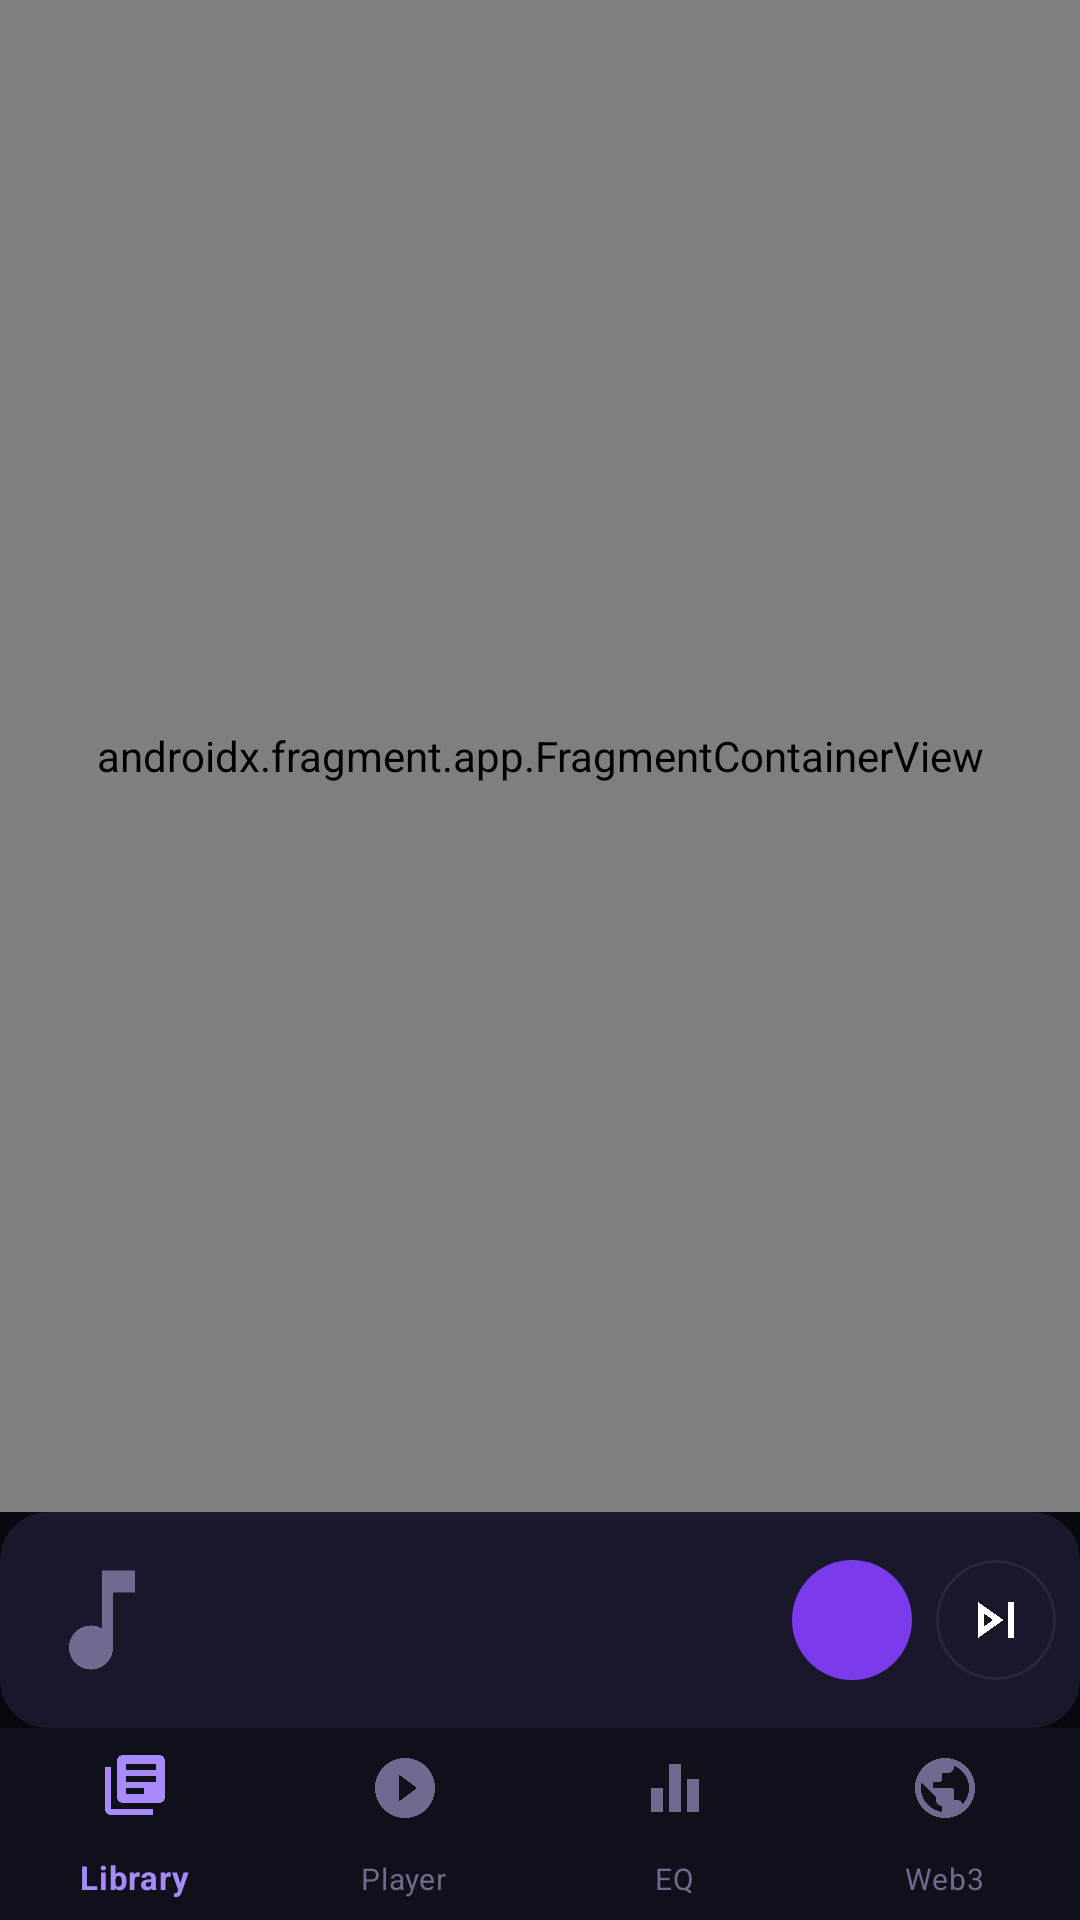

Where to tap for icons on this 1080px×1920px app screen, as (x=x, y=y):
music note: (x=102, y=1620)
skip next: (x=996, y=1620)
